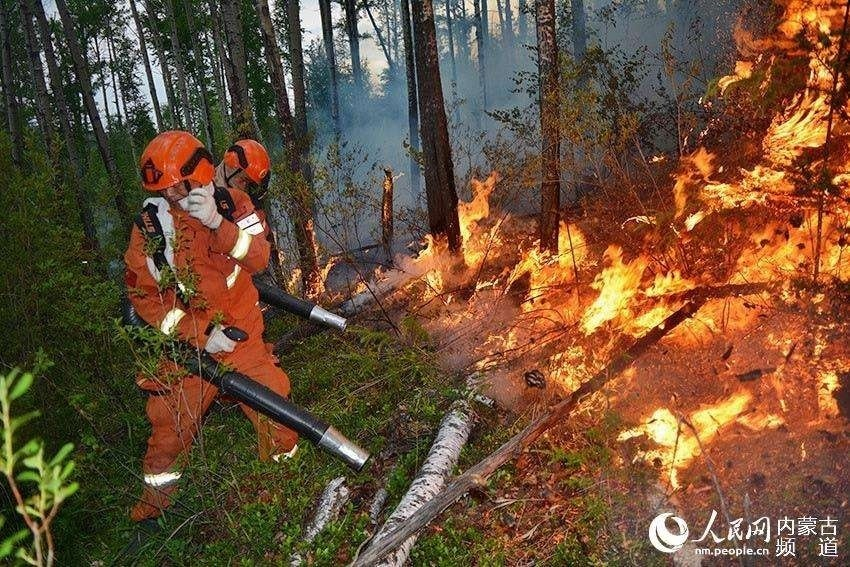fire: (389, 27, 850, 492), (283, 221, 366, 303)
